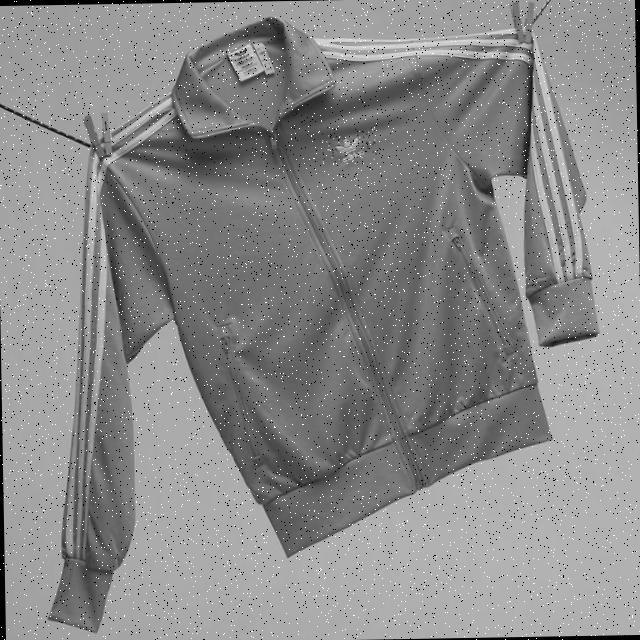Adidas: (322, 126, 377, 165), (230, 40, 255, 66)
